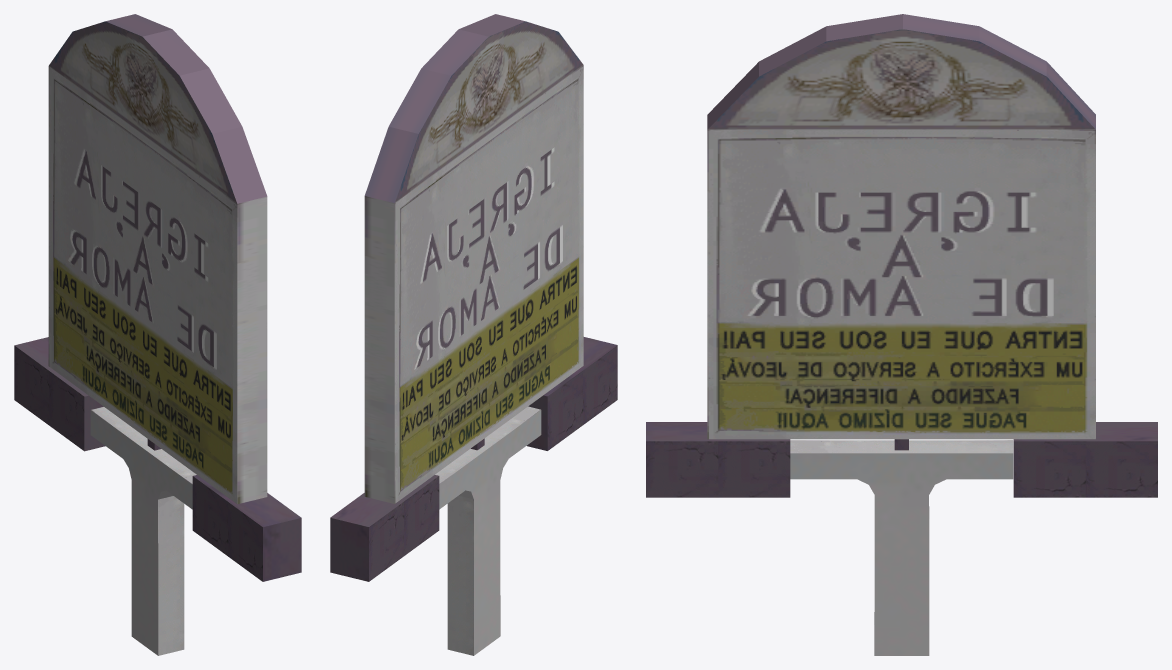
The model's file is wddngchplsign_lvs.obj.
3 views of the same model, side by side, from view 1: azimuth 30°, elevation 25°; view 2: azimuth 150°, elevation 25°; view 3: azimuth 270°, elevation 25° (orthographic). The views are drawn at different scales.
Visible parts, largest first — view 1: wddngchplsign_lvs; view 2: wddngchplsign_lvs; view 3: wddngchplsign_lvs.
Part boxes in pixels (<box>): wddngchplsign_lvs: <box>14,14,301,655</box>; wddngchplsign_lvs: <box>330,14,617,655</box>; wddngchplsign_lvs: <box>646,14,1157,655</box>.
Size of the model in its own units: 0.6238 by 9.37 by 6.92.
Materials: 3 (3 with a texture image).
